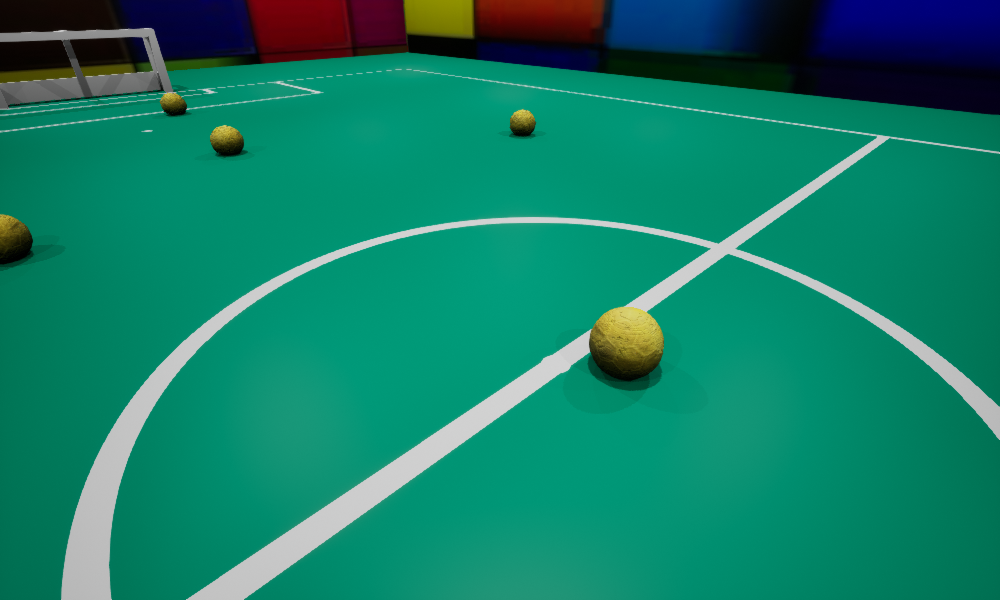b: (589, 307, 663, 379), (0, 214, 32, 261), (210, 125, 243, 155), (510, 109, 535, 135), (160, 93, 186, 113)
g: (0, 28, 172, 108)
